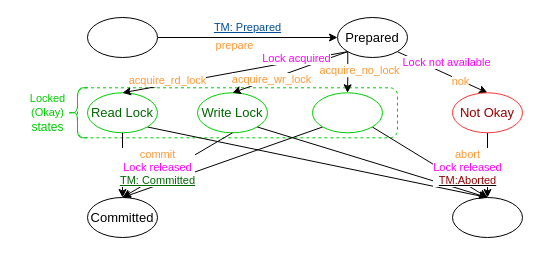
Image size: 540x255. Some labels were removed from this diagram. Each missing label, with the centre of its shape:
Aborted: point 487,217
No Lock: point 347,112
Working: point 122,37
